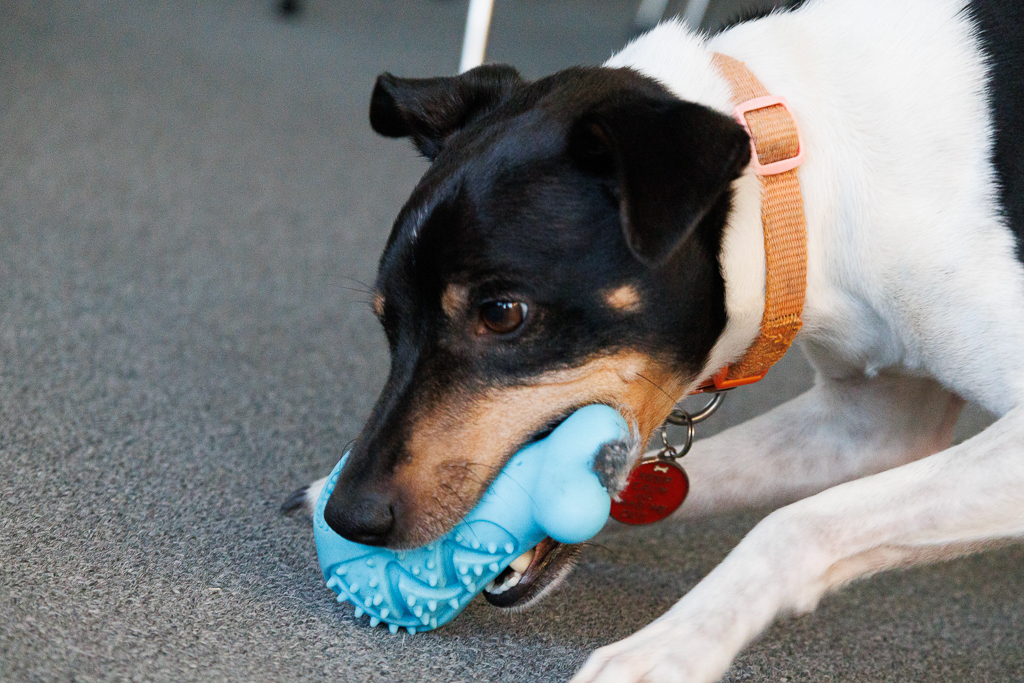Dog: (267, 0, 1024, 683)
